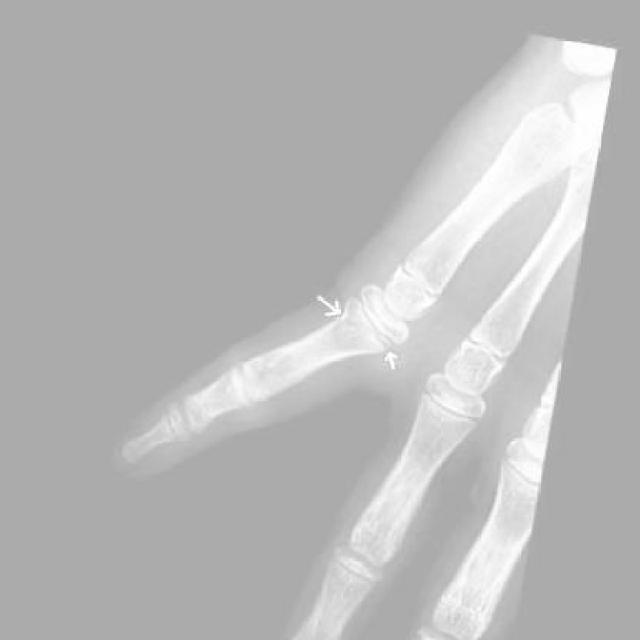Fracture: (326, 293, 400, 362)
